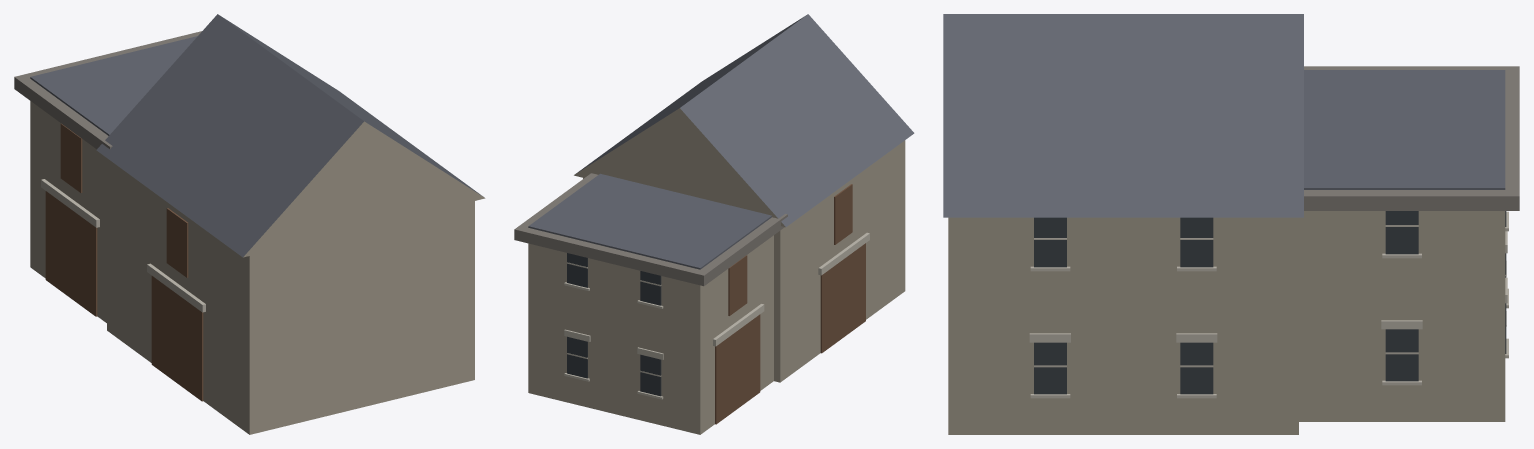
The model's file is house_2128_calumet_coach_house__draft_1904.glb.
3 renders of one model, left to right at view 1: azimuth 30°, elevation 25°; view 2: azimuth 150°, elevation 25°; view 3: azimuth 270°, elevation 25°, orthographic. The views are drawn at different scales.
Parts seen in each view (by area): view 1: house_2128_calumet_coach_house__draft_1904; view 2: house_2128_calumet_coach_house__draft_1904; view 3: house_2128_calumet_coach_house__draft_1904.
Part boxes in pixels (left/top/right/bottom): house_2128_calumet_coach_house__draft_1904: left=14, top=14, right=485, bottom=434; house_2128_calumet_coach_house__draft_1904: left=514, top=14, right=914, bottom=434; house_2128_calumet_coach_house__draft_1904: left=943, top=14, right=1519, bottom=434.
Bounding box in the file's own units: 8.35 × 9.45 × 13.97.
